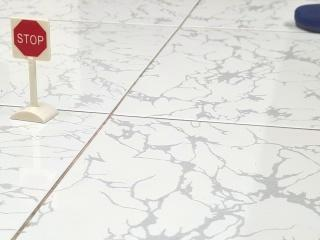stop: (9, 6, 51, 71)
